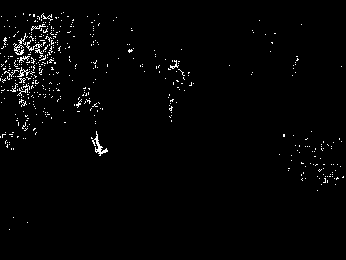person: (75, 86, 110, 156), (166, 59, 182, 123)
